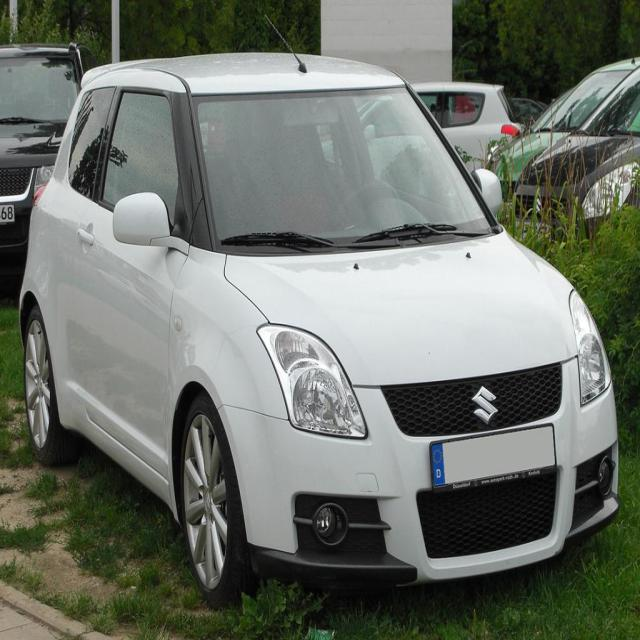car: (13, 7, 619, 619)
